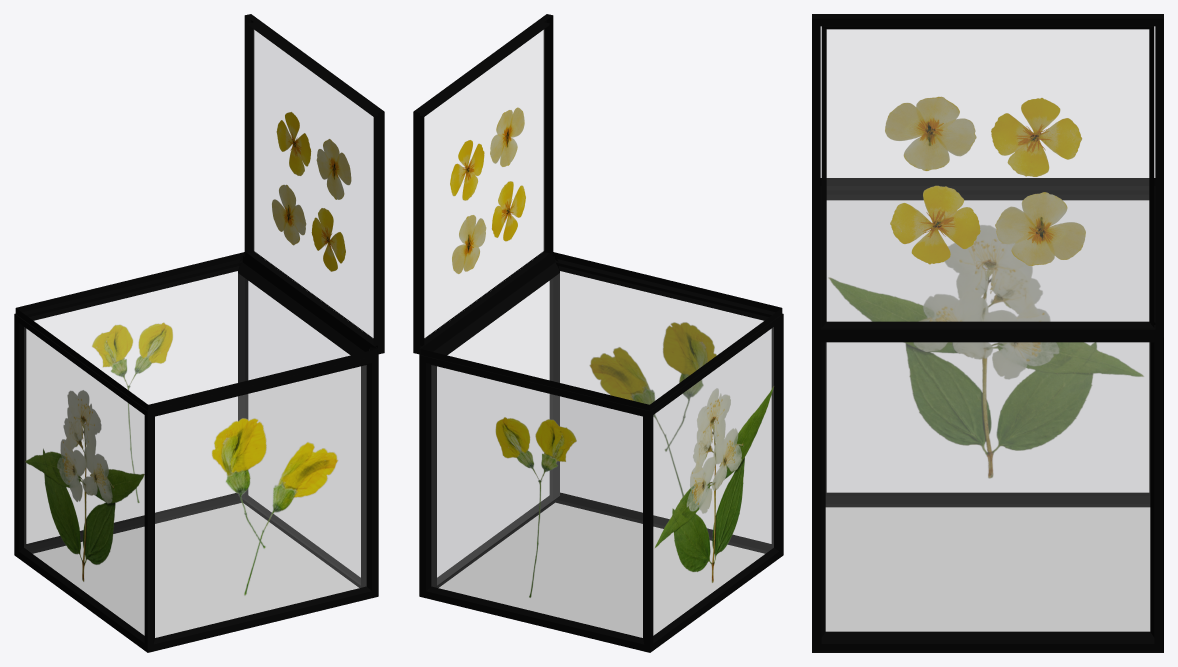
The model's file is open-glass-box-pressed-flowers.glb.
The picture shows the model from 3 angles, left to right: view 1: azimuth 30°, elevation 25°; view 2: azimuth 150°, elevation 25°; view 3: azimuth 270°, elevation 25°; orthographic projection. The views are drawn at different scales.
Parts seen in each view (by area): view 1: Box, Lid, 4, 9.003, 9.002, 9.005, Untitled design (11).001, Untitled design (11); view 2: Box, Lid, 4, 9.002, Untitled design (11).001, Untitled design (11), 9.003, 9.005; view 3: Box, Lid, 4, Untitled design (11).001, Untitled design (11).
Part boxes in pixels (<box>): Box: <box>14,251,378,652</box>; Lid: <box>244,14,384,354</box>; 4: <box>25,390,144,581</box>; 9.003: <box>212,418,266,548</box>; 9.002: <box>92,322,172,502</box>; 9.005: <box>244,442,338,595</box>; Untitled design (11).001: <box>276,112,351,199</box>; Untitled design (11): <box>272,184,345,271</box>; Box: <box>419,251,783,652</box>; Lid: <box>413,14,553,354</box>; 4: <box>654,386,773,582</box>; 9.002: <box>495,417,576,597</box>; Untitled design (11).001: <box>450,107,524,200</box>; Untitled design (11): <box>452,181,525,273</box>; 9.003: <box>663,322,716,451</box>; 9.005: <box>589,347,683,496</box>; Box: <box>812,178,1163,652</box>; Lid: <box>812,14,1163,337</box>; 4: <box>828,225,1143,478</box>; Untitled design (11).001: <box>885,96,1081,176</box>; Untitled design (11): <box>890,185,1085,265</box>.
Size of the model in its own units: 0.4833 by 0.9441 by 0.4713.
7 materials, 4 textured.
